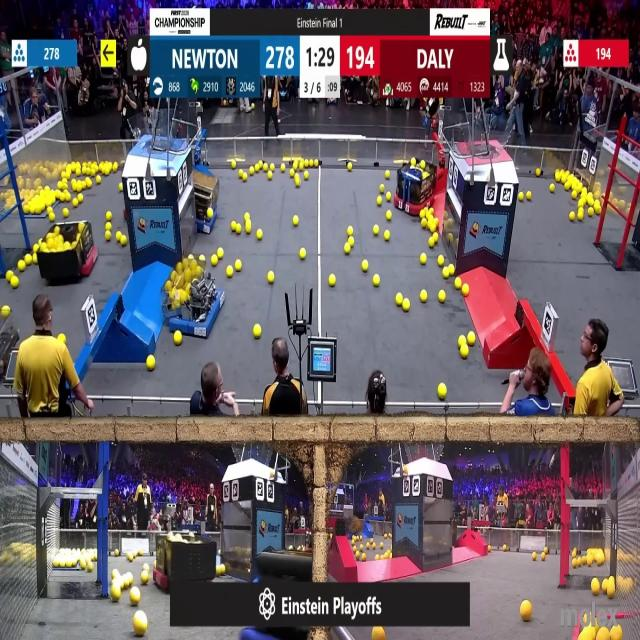ball_ground: (134, 612, 148, 636), (110, 585, 120, 602), (439, 383, 448, 399), (147, 355, 155, 369), (141, 569, 149, 583), (460, 346, 468, 358), (174, 332, 181, 345), (440, 290, 447, 302), (269, 272, 276, 284), (328, 274, 335, 286), (47, 210, 54, 222), (428, 237, 436, 247), (254, 324, 260, 337), (298, 248, 304, 259), (462, 284, 468, 295), (226, 267, 232, 278), (420, 254, 427, 263), (362, 262, 368, 272), (345, 244, 351, 254), (348, 225, 354, 235), (455, 278, 461, 288), (256, 231, 262, 241), (384, 232, 390, 241), (569, 212, 575, 221), (386, 211, 392, 220), (18, 263, 24, 272), (106, 211, 112, 220), (348, 162, 353, 172), (212, 256, 218, 264), (520, 192, 526, 200), (72, 200, 78, 207), (386, 170, 390, 180), (387, 192, 392, 200), (64, 208, 69, 216), (412, 161, 417, 168), (378, 198, 382, 206), (528, 191, 532, 199), (536, 169, 540, 177)
goal: (456, 115, 514, 158), (128, 113, 185, 150)
robot_blue: (162, 253, 225, 344), (182, 166, 220, 237)
robot_red: (150, 528, 218, 594), (36, 216, 99, 282), (396, 157, 438, 214)
